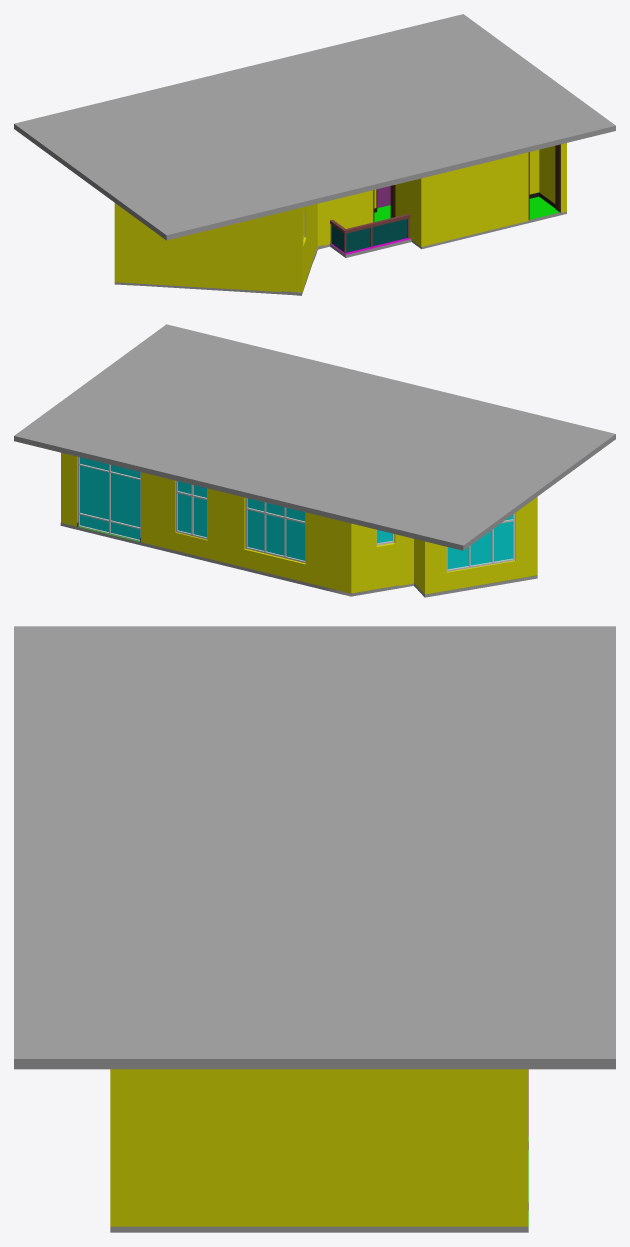
The model's file is Wing_B_Flat_No_01_Type02MatID.fbx.
3 views of the same model, one above another, from view 1: azimuth 30°, elevation 25°; view 2: azimuth 150°, elevation 25°; view 3: azimuth 270°, elevation 25° (orthographic). The views are drawn at different scales.
Visible parts, largest first — view 1: Roof1, wall, Floor1, Flat_No_03_celling__DoorFrame_Skerting:Glass2, Flat_No_03_celling__DoorFrame_Skerting:pCube2, Flat_No_03_celling__DoorFrame_Skerting:Balcony_Railing_01; view 2: Roof1, wall, Flat_No_03_celling__DoorFrame_Skerting:Glass1 (×3), balacony_door:Door_Glass1, Floor1, Flat_No_03_celling__DoorFrame_Skerting:Window_Frame (×3), balacony_door:Flat_No_03_Type03:Door_frame_03; view 3: Roof1, wall, Floor1.
Boxes of the visible parts, x1=… form: Roof1: x1=14, y1=14, x2=615, y2=240; wall: x1=114, y1=143, x2=566, y2=292; Floor1: x1=114, y1=186, x2=566, y2=295; Flat_No_03_celling__DoorFrame_Skerting:Glass2: x1=332, y1=219, x2=407, y2=252; Flat_No_03_celling__DoorFrame_Skerting:pCube2: x1=528, y1=144, x2=560, y2=219; Flat_No_03_celling__DoorFrame_Skerting:Balcony_Railing_01: x1=330, y1=214, x2=410, y2=233; Roof1: x1=14, y1=324, x2=615, y2=550; wall: x1=61, y1=452, x2=537, y2=594; Flat_No_03_celling__DoorFrame_Skerting:Glass1 (×3): x1=178, y1=481, x2=512, y2=569; balacony_door:Door_Glass1: x1=80, y1=457, x2=140, y2=539; Floor1: x1=60, y1=523, x2=537, y2=597; Flat_No_03_celling__DoorFrame_Skerting:Window_Frame (×3): x1=176, y1=481, x2=514, y2=571; balacony_door:Flat_No_03_Type03:Door_frame_03: x1=78, y1=457, x2=140, y2=541; Roof1: x1=14, y1=626, x2=615, y2=1069; wall: x1=110, y1=1069, x2=528, y2=1226; Floor1: x1=110, y1=1069, x2=528, y2=1232.
Bounding box in the file's own units: 1508 × 322 × 886.
